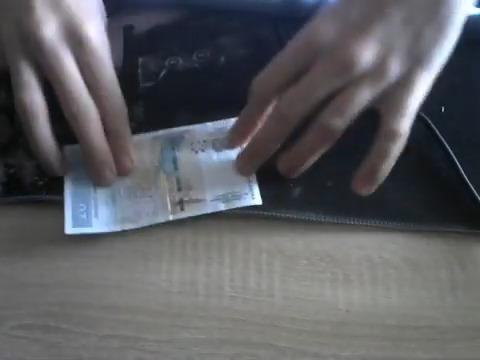20leva: (63, 118, 263, 237)
